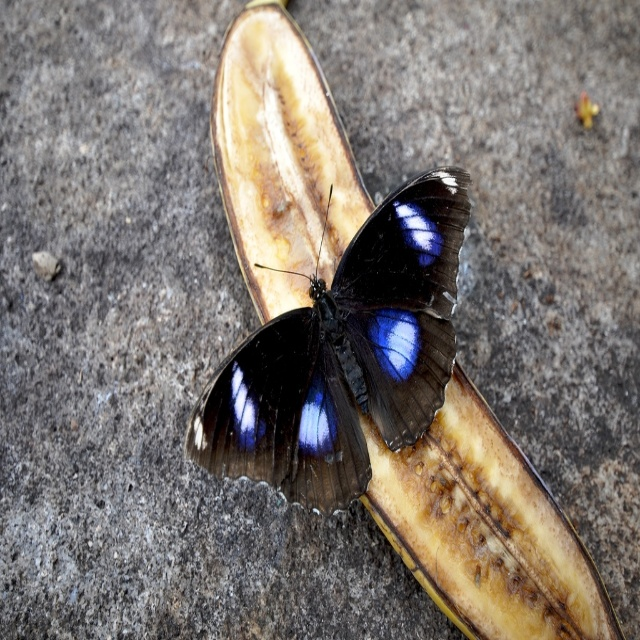Butterfly: (204, 129, 460, 550)
